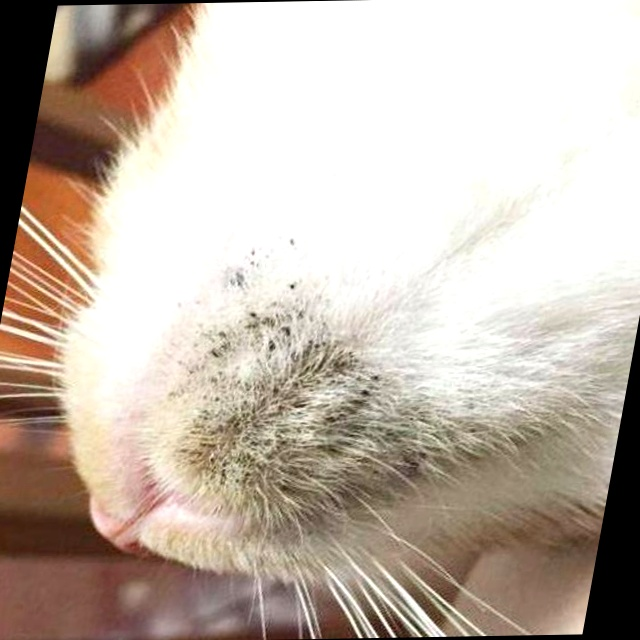acne: (143, 265, 464, 536)
